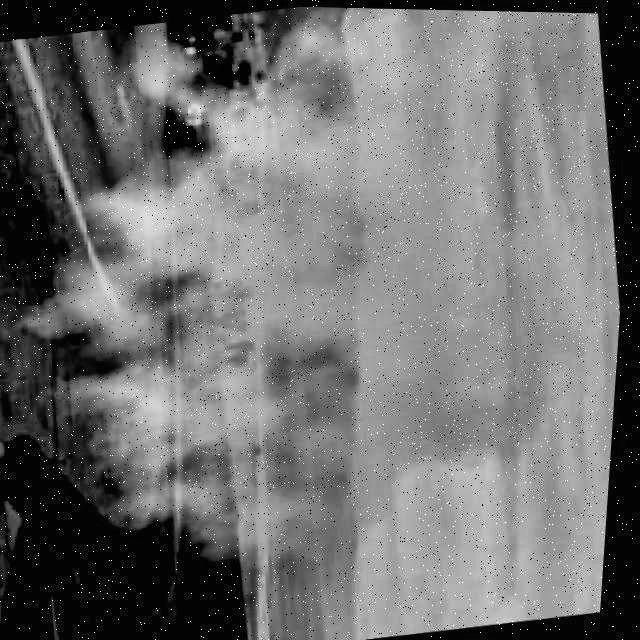Smoke: (0, 5, 617, 600)
